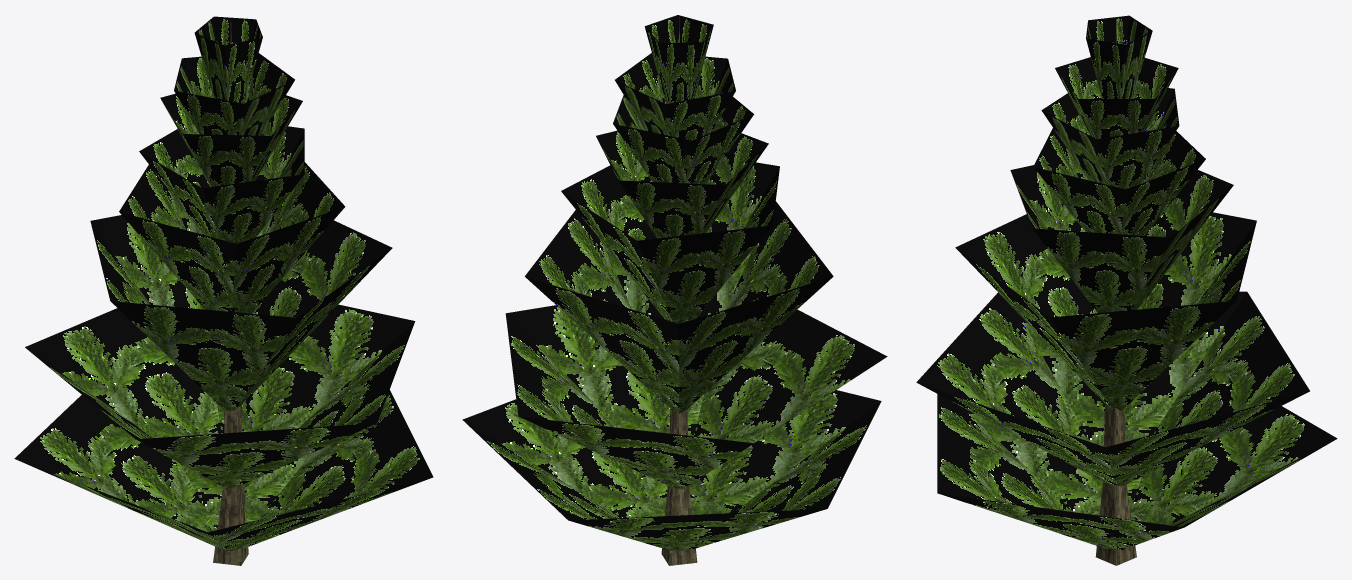
Rendered from tuja1.glb.
3 views of the same model, side by side, from view 1: azimuth 30°, elevation 25°; view 2: azimuth 150°, elevation 25°; view 3: azimuth 270°, elevation 25° (orthographic).
Parts seen in each view (by area): view 1: tuja_1; view 2: tuja_1; view 3: tuja_1.
Boxes of the visible parts, bbox=[...] form: tuja_1: bbox=[14, 16, 433, 565]; tuja_1: bbox=[462, 15, 887, 565]; tuja_1: bbox=[916, 15, 1337, 565].
Bounding box in the file's own units: 1.53 × 2.18 × 1.53.
2 materials, 2 textured.
